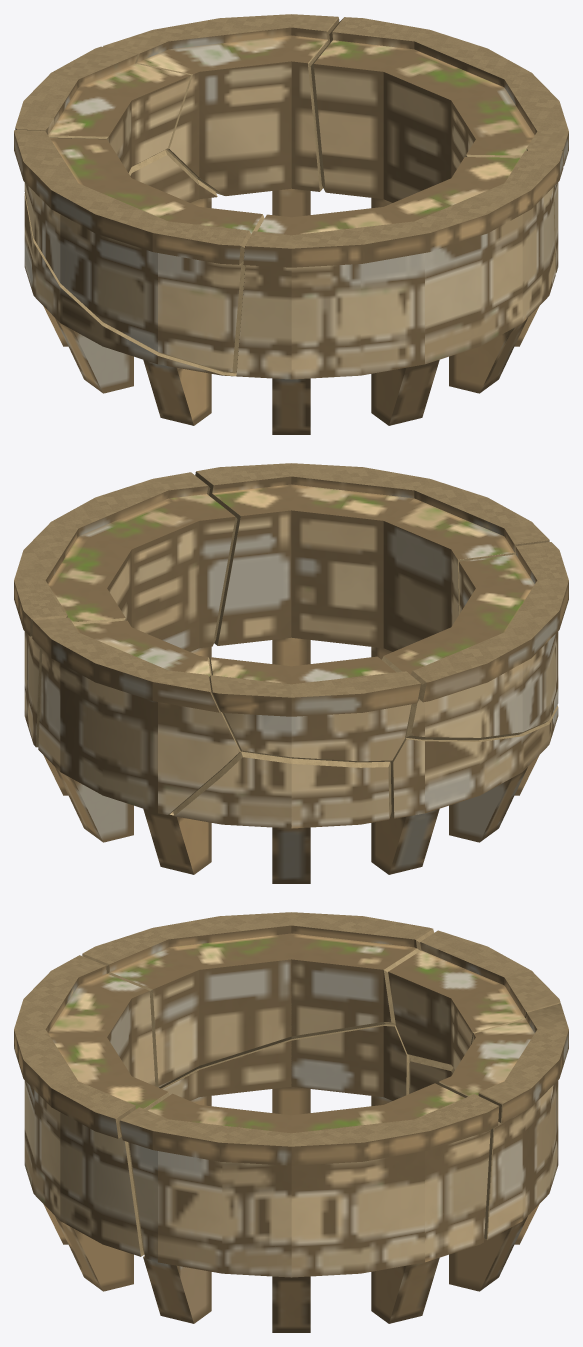
The model's file is Kit_Keep_TurretCrown_Fractured.fbx.
3 renders of one model, top to bottom at view 1: azimuth 30°, elevation 25°; view 2: azimuth 150°, elevation 25°; view 3: azimuth 270°, elevation 25°, orthographic.
Visible parts, largest first — view 1: Kit_Keep_TurretCrown_frag_02, Kit_Keep_TurretCrown_frag_06, Kit_Keep_TurretCrown_frag_04, Kit_Keep_TurretCrown_frag_07, Kit_Keep_TurretCrown_frag_01, Kit_Keep_TurretCrown_frag_05, Kit_Keep_TurretCrown_frag_03; view 2: Kit_Keep_TurretCrown_frag_02, Kit_Keep_TurretCrown_frag_07, Kit_Keep_TurretCrown_frag_04, Kit_Keep_TurretCrown_frag_06, Kit_Keep_TurretCrown_frag_01, Kit_Keep_TurretCrown_frag_03, Kit_Keep_TurretCrown_frag_05; view 3: Kit_Keep_TurretCrown_frag_04, Kit_Keep_TurretCrown_frag_06, Kit_Keep_TurretCrown_frag_02, Kit_Keep_TurretCrown_frag_07, Kit_Keep_TurretCrown_frag_01, Kit_Keep_TurretCrown_frag_05, Kit_Keep_TurretCrown_frag_03.
Boxes of the visible parts, x1,y1,x2,y2 form: Kit_Keep_TurretCrown_frag_02: (236, 150, 563, 434); Kit_Keep_TurretCrown_frag_06: (14, 130, 264, 373); Kit_Keep_TurretCrown_frag_04: (310, 17, 568, 346); Kit_Keep_TurretCrown_frag_07: (103, 14, 339, 217); Kit_Keep_TurretCrown_frag_01: (15, 46, 190, 172); Kit_Keep_TurretCrown_frag_05: (24, 193, 236, 425); Kit_Keep_TurretCrown_frag_03: (128, 149, 217, 208); Kit_Keep_TurretCrown_frag_02: (195, 463, 549, 666); Kit_Keep_TurretCrown_frag_07: (32, 617, 240, 842); Kit_Keep_TurretCrown_frag_04: (14, 472, 237, 795); Kit_Keep_TurretCrown_frag_06: (381, 542, 568, 740); Kit_Keep_TurretCrown_frag_01: (209, 656, 421, 762); Kit_Keep_TurretCrown_frag_03: (143, 751, 391, 883); Kit_Keep_TurretCrown_frag_05: (371, 705, 558, 874); Kit_Keep_TurretCrown_frag_04: (119, 1083, 499, 1332); Kit_Keep_TurretCrown_frag_06: (82, 912, 434, 1088); Kit_Keep_TurretCrown_frag_02: (14, 955, 169, 1291); Kit_Keep_TurretCrown_frag_07: (439, 1003, 568, 1291); Kit_Keep_TurretCrown_frag_01: (388, 930, 560, 1069); Kit_Keep_TurretCrown_frag_05: (161, 1024, 409, 1115); Kit_Keep_TurretCrown_frag_03: (409, 1055, 539, 1244).
Size of what is drawn, in the model's own units: 3.16 by 1.3 by 3.16.
Materials: 2 (2 with a texture image).
